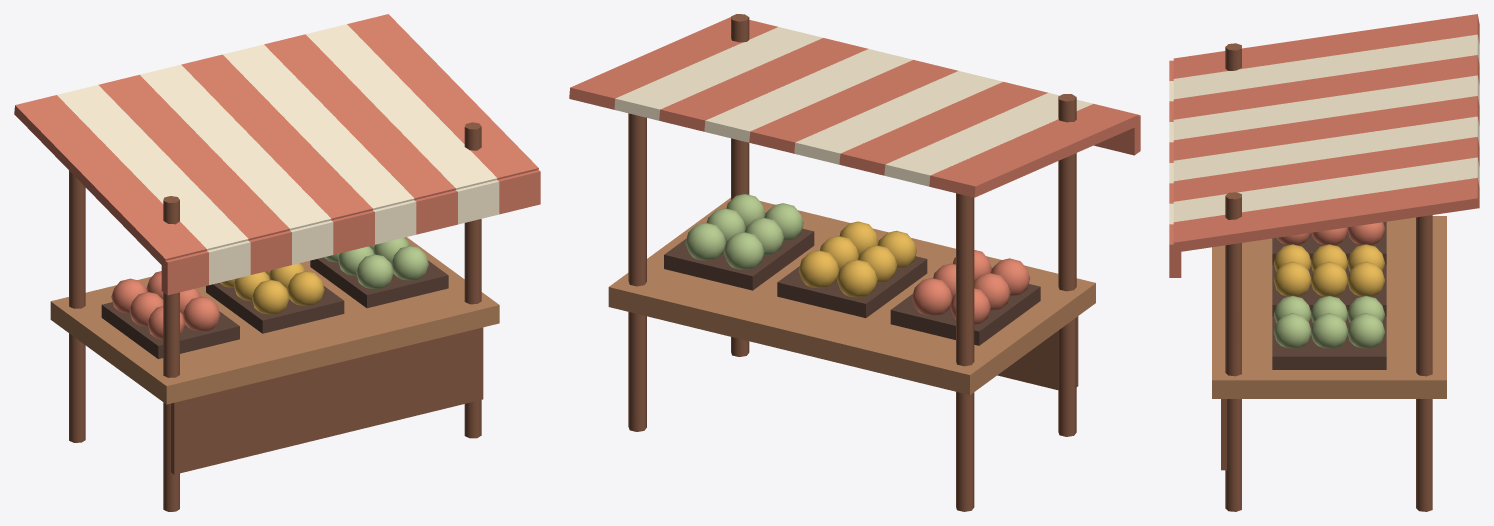
Rendered from market.glb.
3 views of the same model, side by side, from view 1: azimuth 30°, elevation 25°; view 2: azimuth 150°, elevation 25°; view 3: azimuth 270°, elevation 25° (orthographic). The views are drawn at different scales.
Parts seen in each view (by area): view 1: surface_#df8269, surface_#fff2d6, surface_#936047, surface_#be8960, surface_#62473b, surface_#e3b451, surface_#b0c58a; view 2: surface_#df8269, surface_#be8960, surface_#fff2d6, surface_#936047, surface_#62473b, surface_#b0c58a, surface_#e3b451; view 3: surface_#df8269, surface_#fff2d6, surface_#be8960, surface_#936047, surface_#62473b, surface_#b0c58a, surface_#e3b451.
Part boxes in pixels (x1,y1,x2,y2): surface_#df8269: (14, 14, 540, 339); surface_#fff2d6: (57, 24, 499, 285); surface_#936047: (69, 122, 483, 511); surface_#be8960: (50, 237, 499, 404); surface_#62473b: (101, 257, 448, 359); surface_#e3b451: (220, 263, 324, 314); surface_#b0c58a: (324, 238, 428, 288); surface_#df8269: (569, 17, 1140, 324); surface_#be8960: (608, 197, 1095, 394); surface_#fff2d6: (614, 27, 1093, 186); surface_#936047: (628, 14, 1078, 511); surface_#62473b: (664, 228, 1040, 345); surface_#b0c58a: (685, 194, 803, 269); surface_#e3b451: (798, 221, 916, 297); surface_#df8269: (1169, 14, 1479, 277); surface_#fff2d6: (1169, 34, 1479, 224); surface_#be8960: (1212, 216, 1446, 398); surface_#936047: (1221, 43, 1432, 511); surface_#62473b: (1272, 222, 1386, 369); surface_#b0c58a: (1273, 295, 1384, 348); surface_#e3b451: (1273, 244, 1384, 296).
Size of the model in its own units: 2.97 by 2.46 by 2.11.
